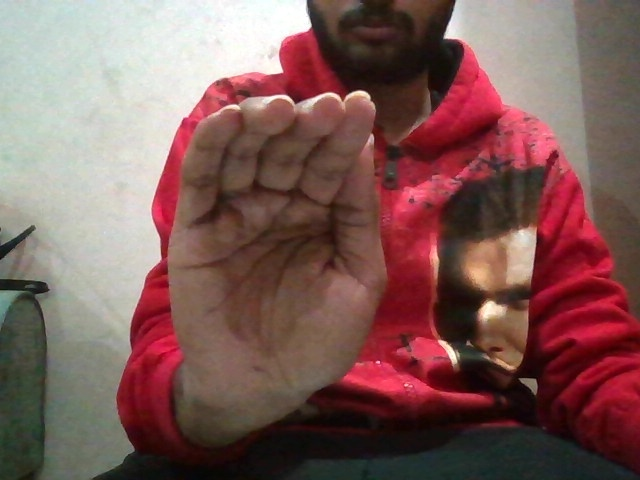C: (169, 83, 392, 409)
